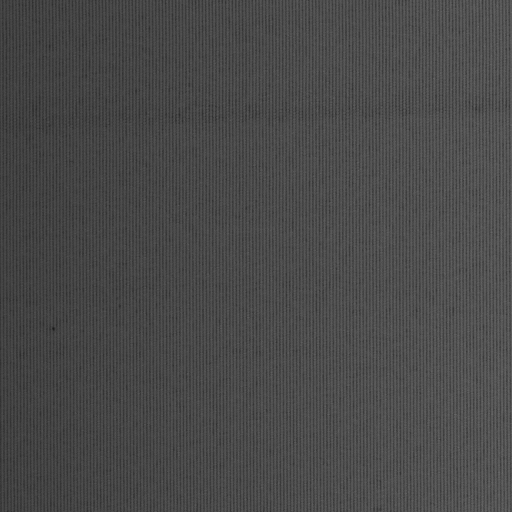defect: (2, 99, 512, 134)
